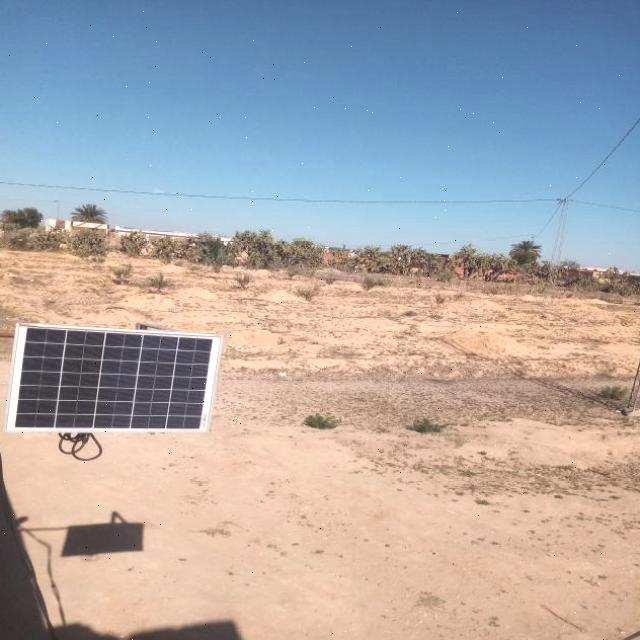Normal Solar Panel: (3, 324, 223, 434)
